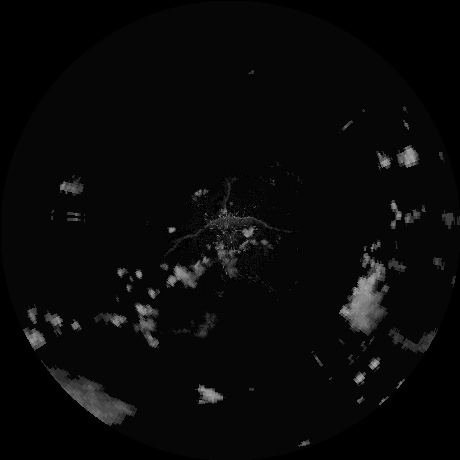frontgust: (168, 214, 295, 252)
